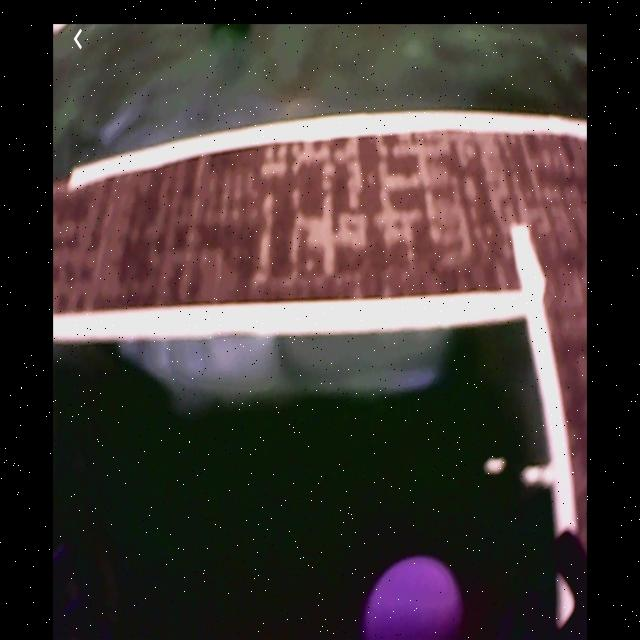ball: (365, 555, 464, 640)
